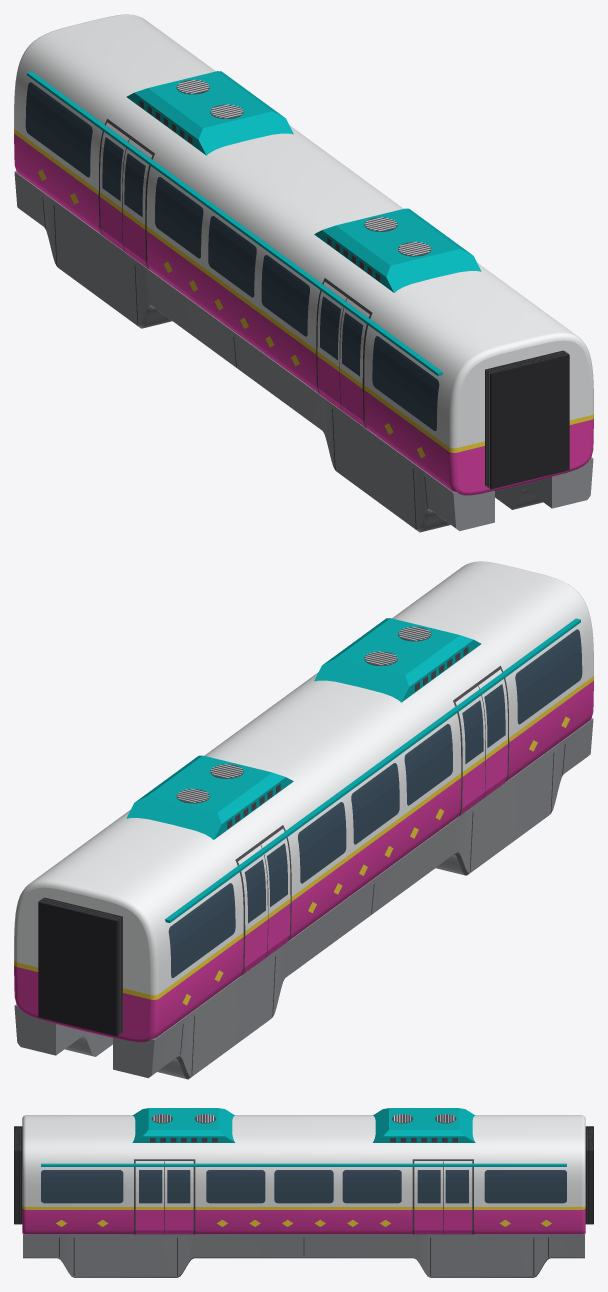
Rendered from 325_close.fbx.
3 views of the same model, one above another, from view 1: azimuth 30°, elevation 25°; view 2: azimuth 150°, elevation 25°; view 3: azimuth 270°, elevation 25° (orthographic). The views are drawn at different scales.
Parts seen in each view (by area): view 1: 325_close; view 2: 325_close; view 3: 325_close.
Part boxes in pixels (bbox=[...]): 325_close: bbox=[14, 14, 593, 532]; 325_close: bbox=[14, 561, 593, 1079]; 325_close: bbox=[14, 1108, 593, 1277].
Bounding box in the file's own units: 2.6 × 3.71 × 14.
